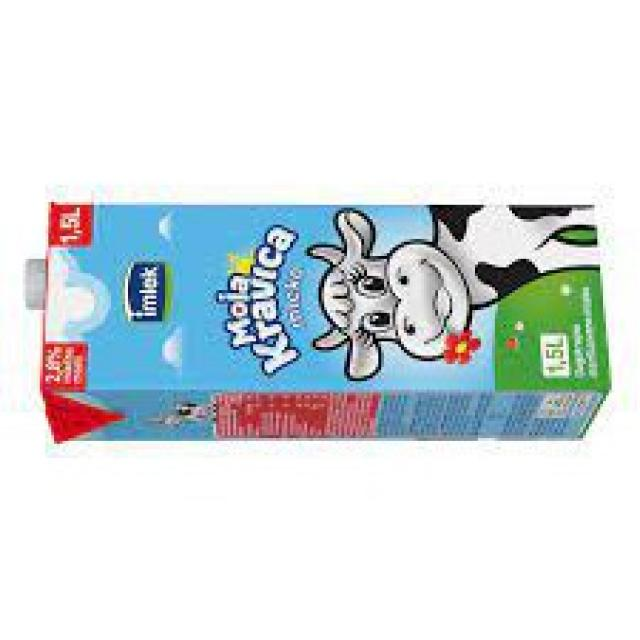non_white_jug: (22, 196, 613, 448)
